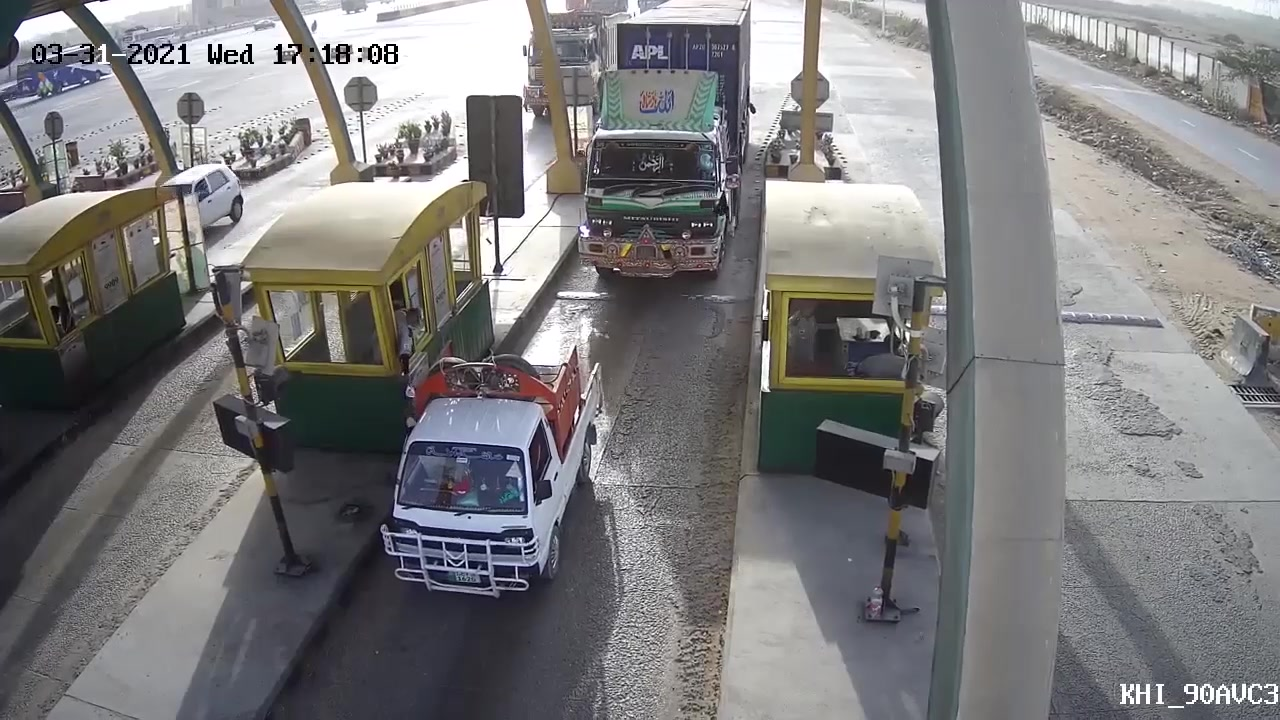F1: (376, 347, 609, 604)
F6: (574, 1, 761, 291)
